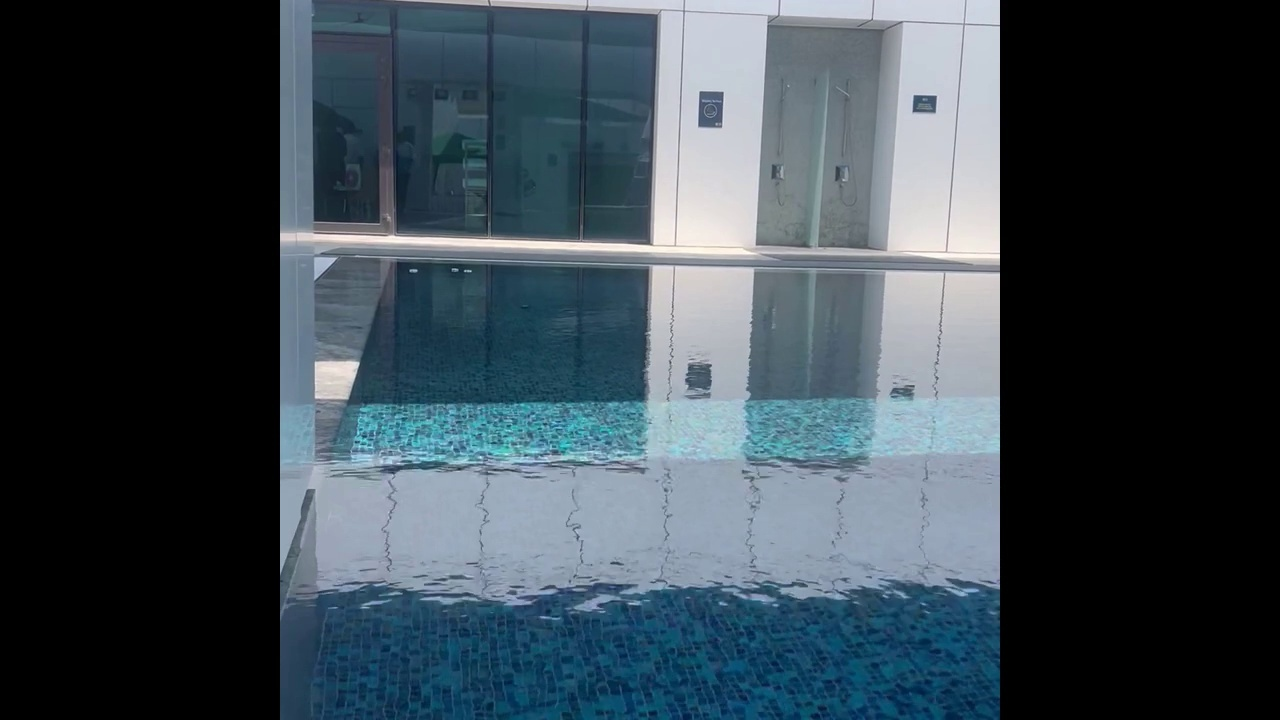debris: (445, 264, 461, 275), (458, 264, 474, 275), (406, 262, 418, 275), (519, 301, 528, 311)
